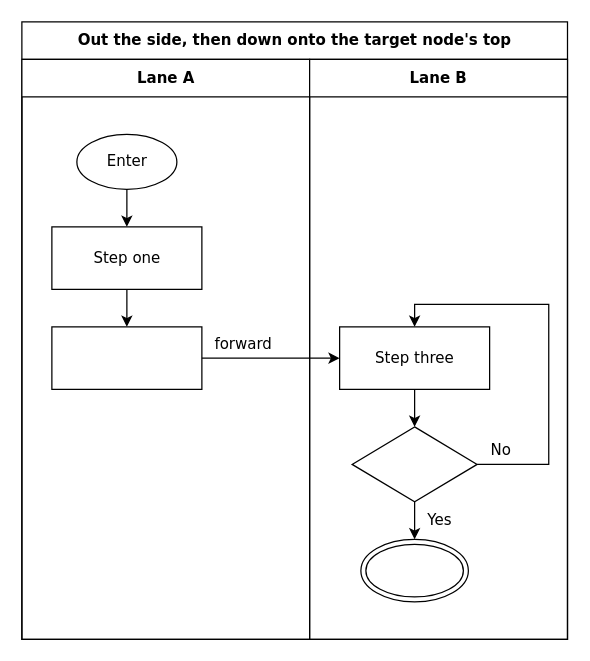
This 590x661 diagram has some shape labels left out. The centre of each missing label's shape, as x and y in pixels:
"Done?" belongs at (414,464).
"Finish" belongs at (414,570).
"Step two" belongs at (126,357).
